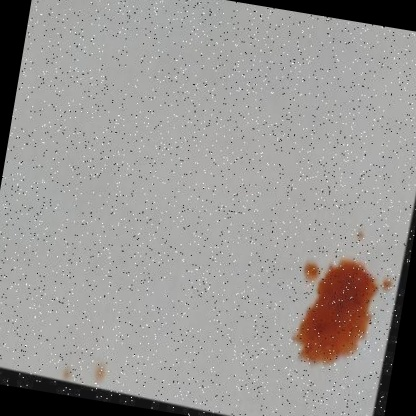kimchi: (280, 246, 399, 379), (88, 358, 110, 388), (341, 226, 367, 250), (53, 364, 71, 384)
